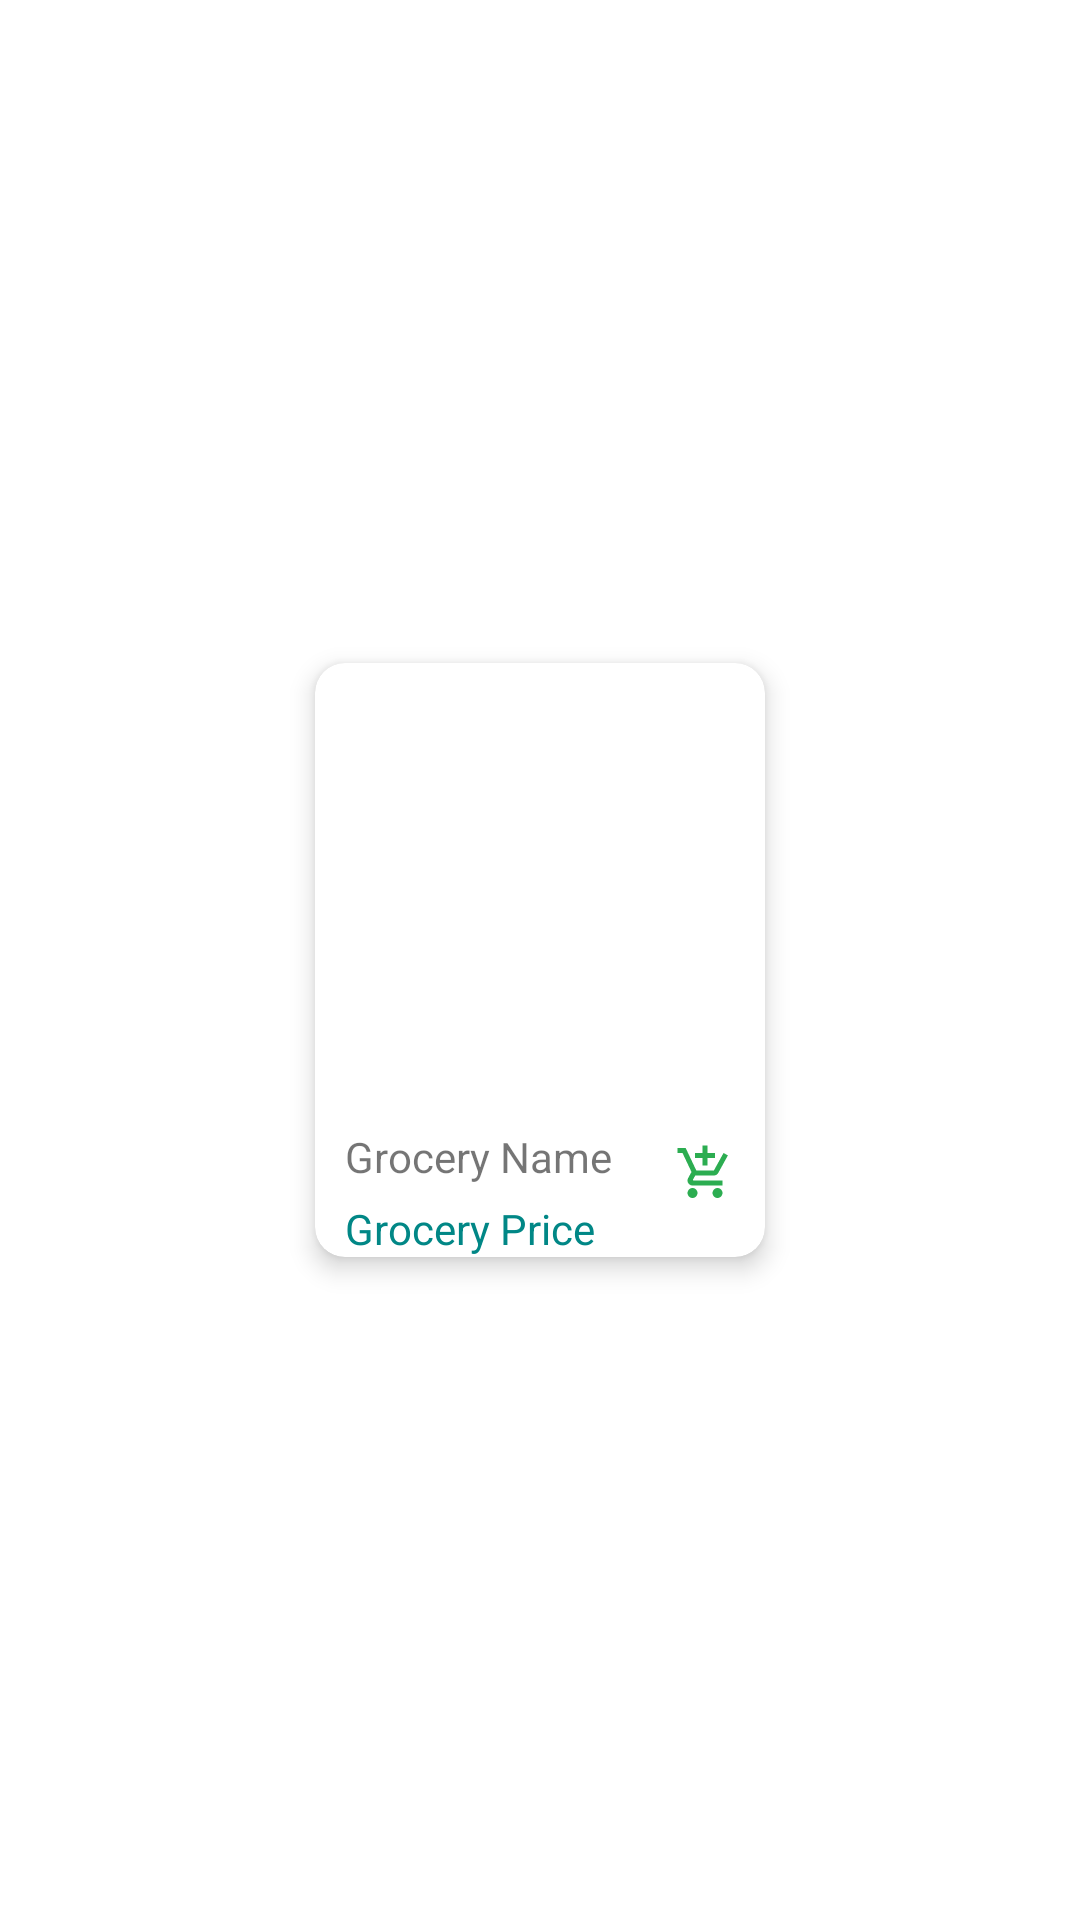

Screen size 1080w x 1920h. Icon name, then its center in pixels as point (x, y):
cart add: point (702, 1171)
